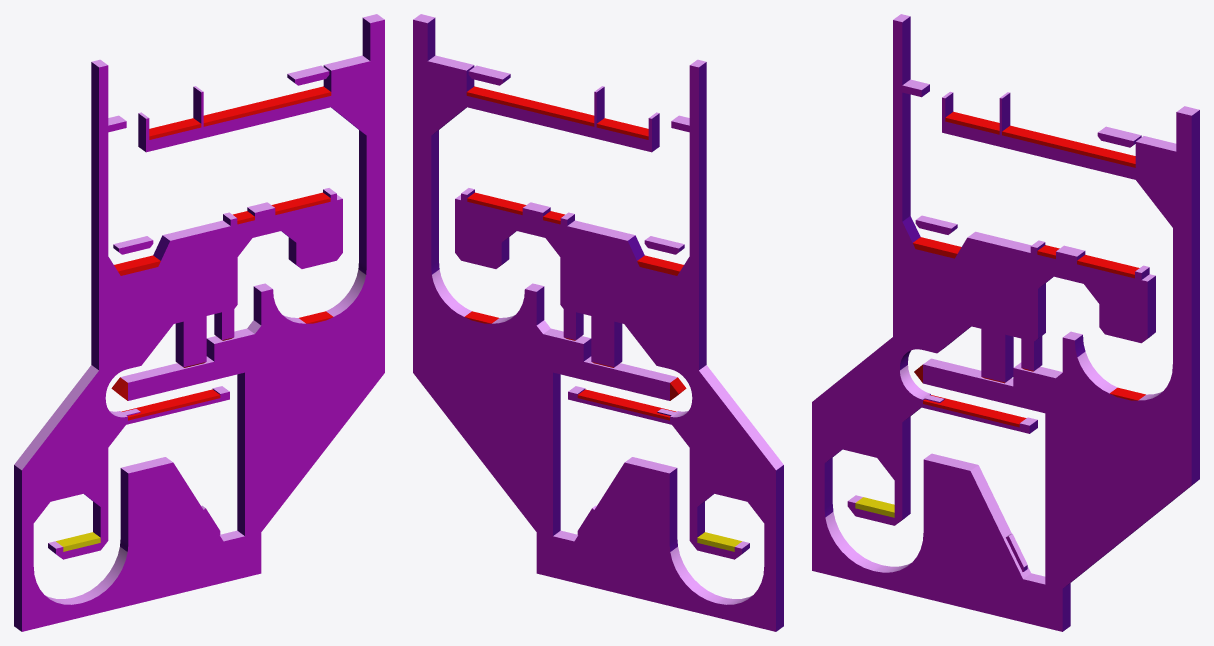
File: level2_fbx1.fbx
The picture shows the model from 3 angles, left to right: view 1: azimuth 30°, elevation 25°; view 2: azimuth 150°, elevation 25°; view 3: azimuth 330°, elevation 25°; orthographic projection. The views are drawn at different scales.
Visible parts, largest first — view 1: level2_main, level2_lava1, level2_crusher2, level2_lava6, level2_lava3, level2_crusher1, level2_lava2, level2_lava5, level2_movingplatform; view 2: level2_main, level2_lava1, level2_crusher2, level2_lava6, level2_lava3, level2_crusher1, level2_lava2, level2_lava5, level2_movingplatform; view 3: level2_main, level2_crusher2, level2_lava1, level2_lava6, level2_lava3, level2_crusher1, level2_lava2, level2_lava5, level2_movingplatform.
Boxes of the visible parts, left/top/right/bottom form: level2_main: left=14, top=14, right=384, bottom=631; level2_lava1: left=203, top=86, right=331, bottom=126; level2_crusher2: left=175, top=306, right=206, bottom=367; level2_lava6: left=121, top=389, right=220, bottom=420; level2_lava3: left=271, top=192, right=330, bottom=214; level2_crusher1: left=214, top=284, right=234, bottom=340; level2_lava2: left=149, top=118, right=201, bottom=139; level2_lava5: left=114, top=255, right=160, bottom=275; level2_movingplatform: left=287, top=65, right=329, bottom=85; level2_main: left=413, top=14, right=783, bottom=631; level2_lava1: left=466, top=86, right=594, bottom=126; level2_crusher2: left=591, top=302, right=622, bottom=367; level2_lava6: left=577, top=389, right=676, bottom=420; level2_lava3: left=467, top=192, right=526, bottom=214; level2_crusher1: left=563, top=284, right=583, bottom=340; level2_lava2: left=596, top=118, right=648, bottom=139; level2_lava5: left=637, top=255, right=683, bottom=275; level2_movingplatform: left=468, top=65, right=510, bottom=85; level2_main: left=812, top=14, right=1199, bottom=631; level2_crusher2: left=981, top=314, right=1013, bottom=382; level2_lava1: left=1002, top=125, right=1135, bottom=167; level2_lava6: left=923, top=395, right=1026, bottom=427; level2_lava3: left=1077, top=254, right=1139, bottom=278; level2_crusher1: left=1021, top=336, right=1042, bottom=370; level2_lava2: left=945, top=111, right=999, bottom=134; level2_lava5: left=913, top=237, right=961, bottom=258; level2_movingplatform: left=1097, top=126, right=1141, bottom=147.
Size of the model in its own units: 26.96 by 38.73 by 1.
